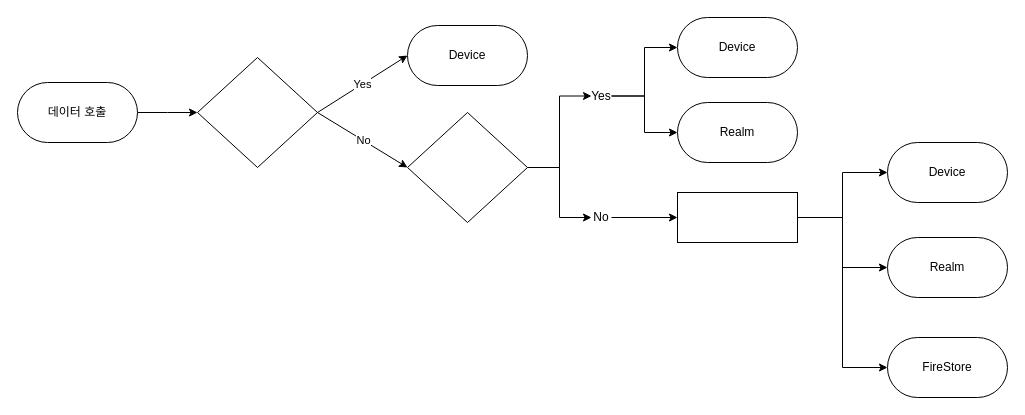
Image size: 1025x415. Some labels were removed from this diagram. Each missing label, with the centre of its shape:
FireStore Today Data?: point (467, 167)
Football - API Request: point (737, 217)
Realm Data?: point (257, 112)
